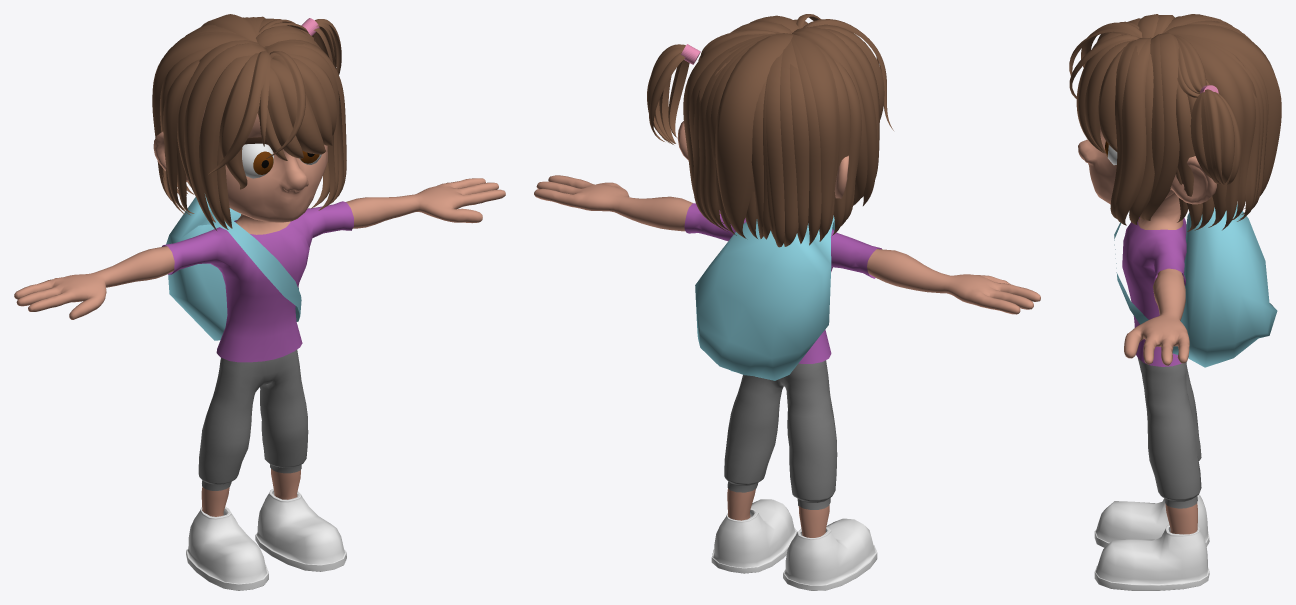
File: NiñaFinal.fbx
The picture shows the model from 3 angles, left to right: view 1: azimuth 30°, elevation 25°; view 2: azimuth 150°, elevation 25°; view 3: azimuth 270°, elevation 25°; orthographic projection. The views are drawn at different scales.
Parts seen in each view (by area): view 1: Hair-female, Plane_001, Plane_011, Plane_012, Cube_009, Cube_002, Sphere; view 2: Hair-female, Cube_002, Plane_012, Plane_001, Cube_009, Plane_011; view 3: Hair-female, Cube_002, Cube_009, Plane_001, Plane_012, Plane_011.
Boxes of the visible parts, x1,y1,x2,y2 form: Hair-female: (152,14,346,230); Plane_001: (14,107,505,516); Plane_011: (162,201,353,362); Plane_012: (198,349,308,490); Cube_009: (186,489,346,590); Cube_002: (166,194,301,340); Sphere: (242,143,321,178); Hair-female: (647,14,893,247); Cube_002: (695,215,834,380); Plane_012: (724,360,837,509); Plane_001: (534,121,1040,537); Cube_009: (711,499,877,590); Plane_011: (684,203,881,363); Hair-female: (1069,14,1281,231); Cube_002: (1114,204,1277,367); Cube_009: (1094,494,1209,590); Plane_001: (1078,126,1216,534); Plane_012: (1138,358,1201,508); Plane_011: (1122,217,1186,366).
Size of the model in its own units: 143 by 148 by 53.83.
